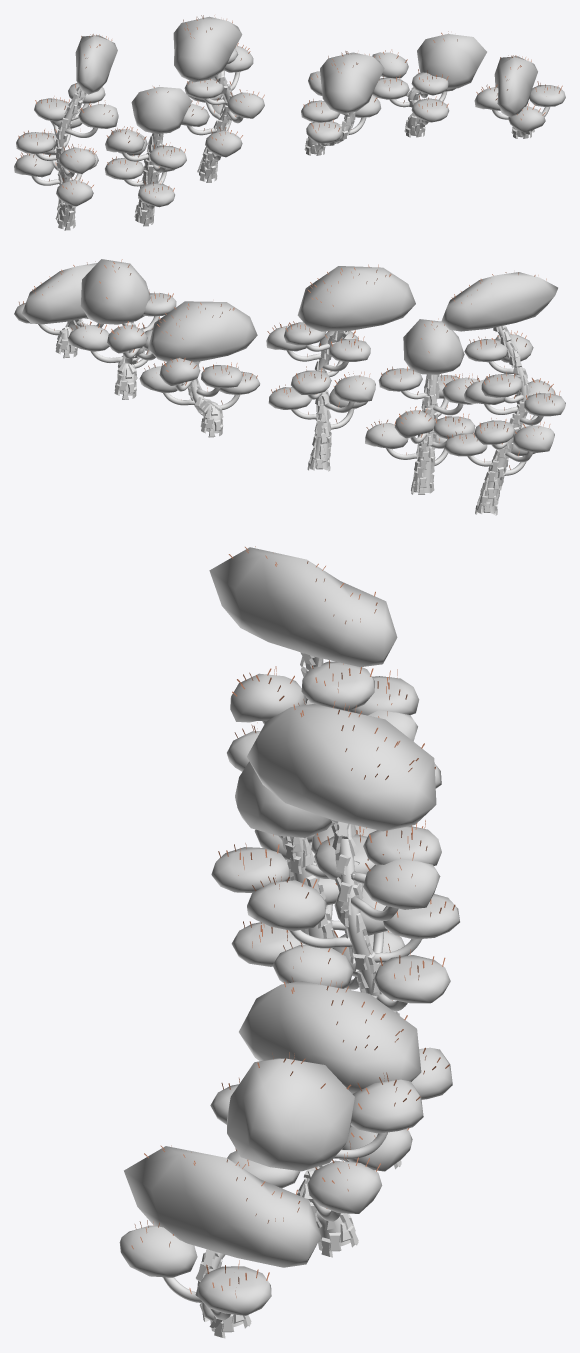
File: trees.fbx
3 renders of one model, top to bottom at view 1: azimuth 30°, elevation 25°; view 2: azimuth 150°, elevation 25°; view 3: azimuth 270°, elevation 25°, orthographic. The views are drawn at different scales.
Parts seen in each view (by area): view 1: tree6, tree2, tree1, tree4, tree3, tree5; view 2: tree6, tree2, tree3, tree1, tree4, tree5; view 3: tree2, tree6, tree5, tree4, tree3, tree1.
Boxes of the visible parts, x1,y1,x2,y2 form: tree6: (14, 34, 118, 230); tree2: (173, 15, 264, 182); tree1: (105, 85, 191, 226); tree4: (372, 31, 486, 137); tree3: (301, 51, 384, 155); tree5: (474, 55, 565, 138); tree6: (441, 272, 565, 515); tree2: (266, 264, 415, 471); tree3: (139, 301, 260, 437); tree1: (365, 318, 478, 494); tree4: (68, 259, 176, 399); tree5: (14, 261, 103, 358); tree2: (247, 699, 459, 1015); tree6: (209, 546, 441, 932); tree5: (119, 1145, 321, 1338); tree4: (210, 1052, 423, 1257); tree3: (239, 977, 452, 1171); tree1: (211, 761, 404, 989).
Size of the model in its own units: 4310 by 1652 by 1220.
